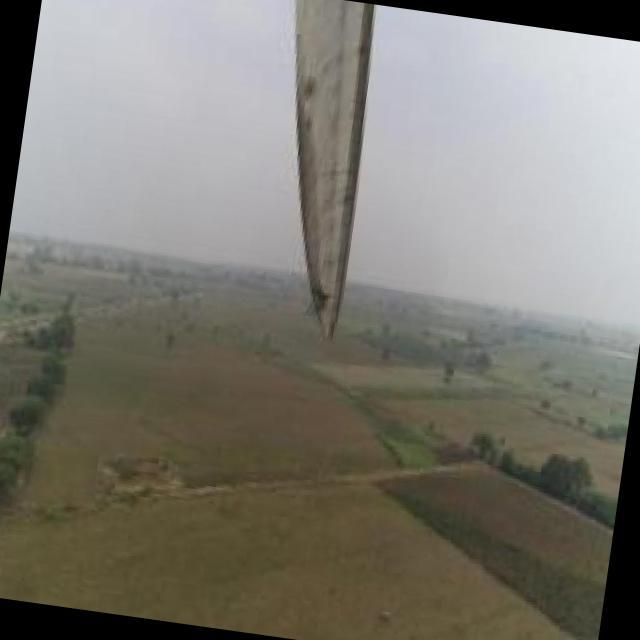Dirt: (292, 1, 379, 345)
